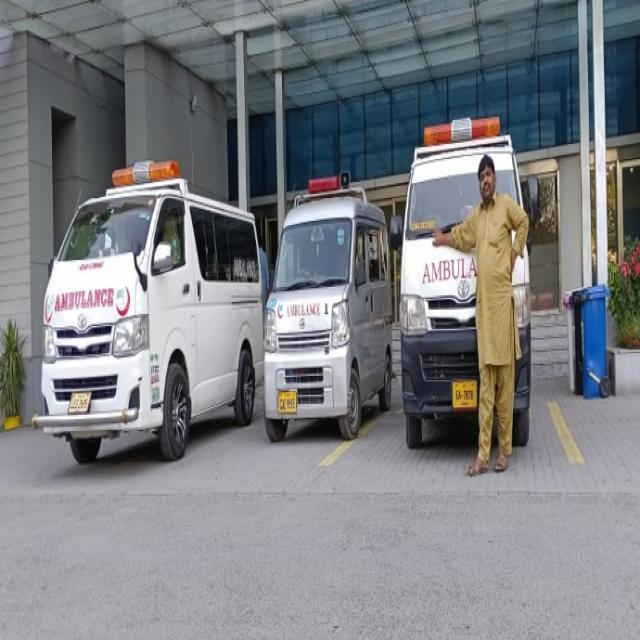ambulance: (260, 206, 556, 474), (52, 180, 213, 416), (400, 118, 514, 365)
